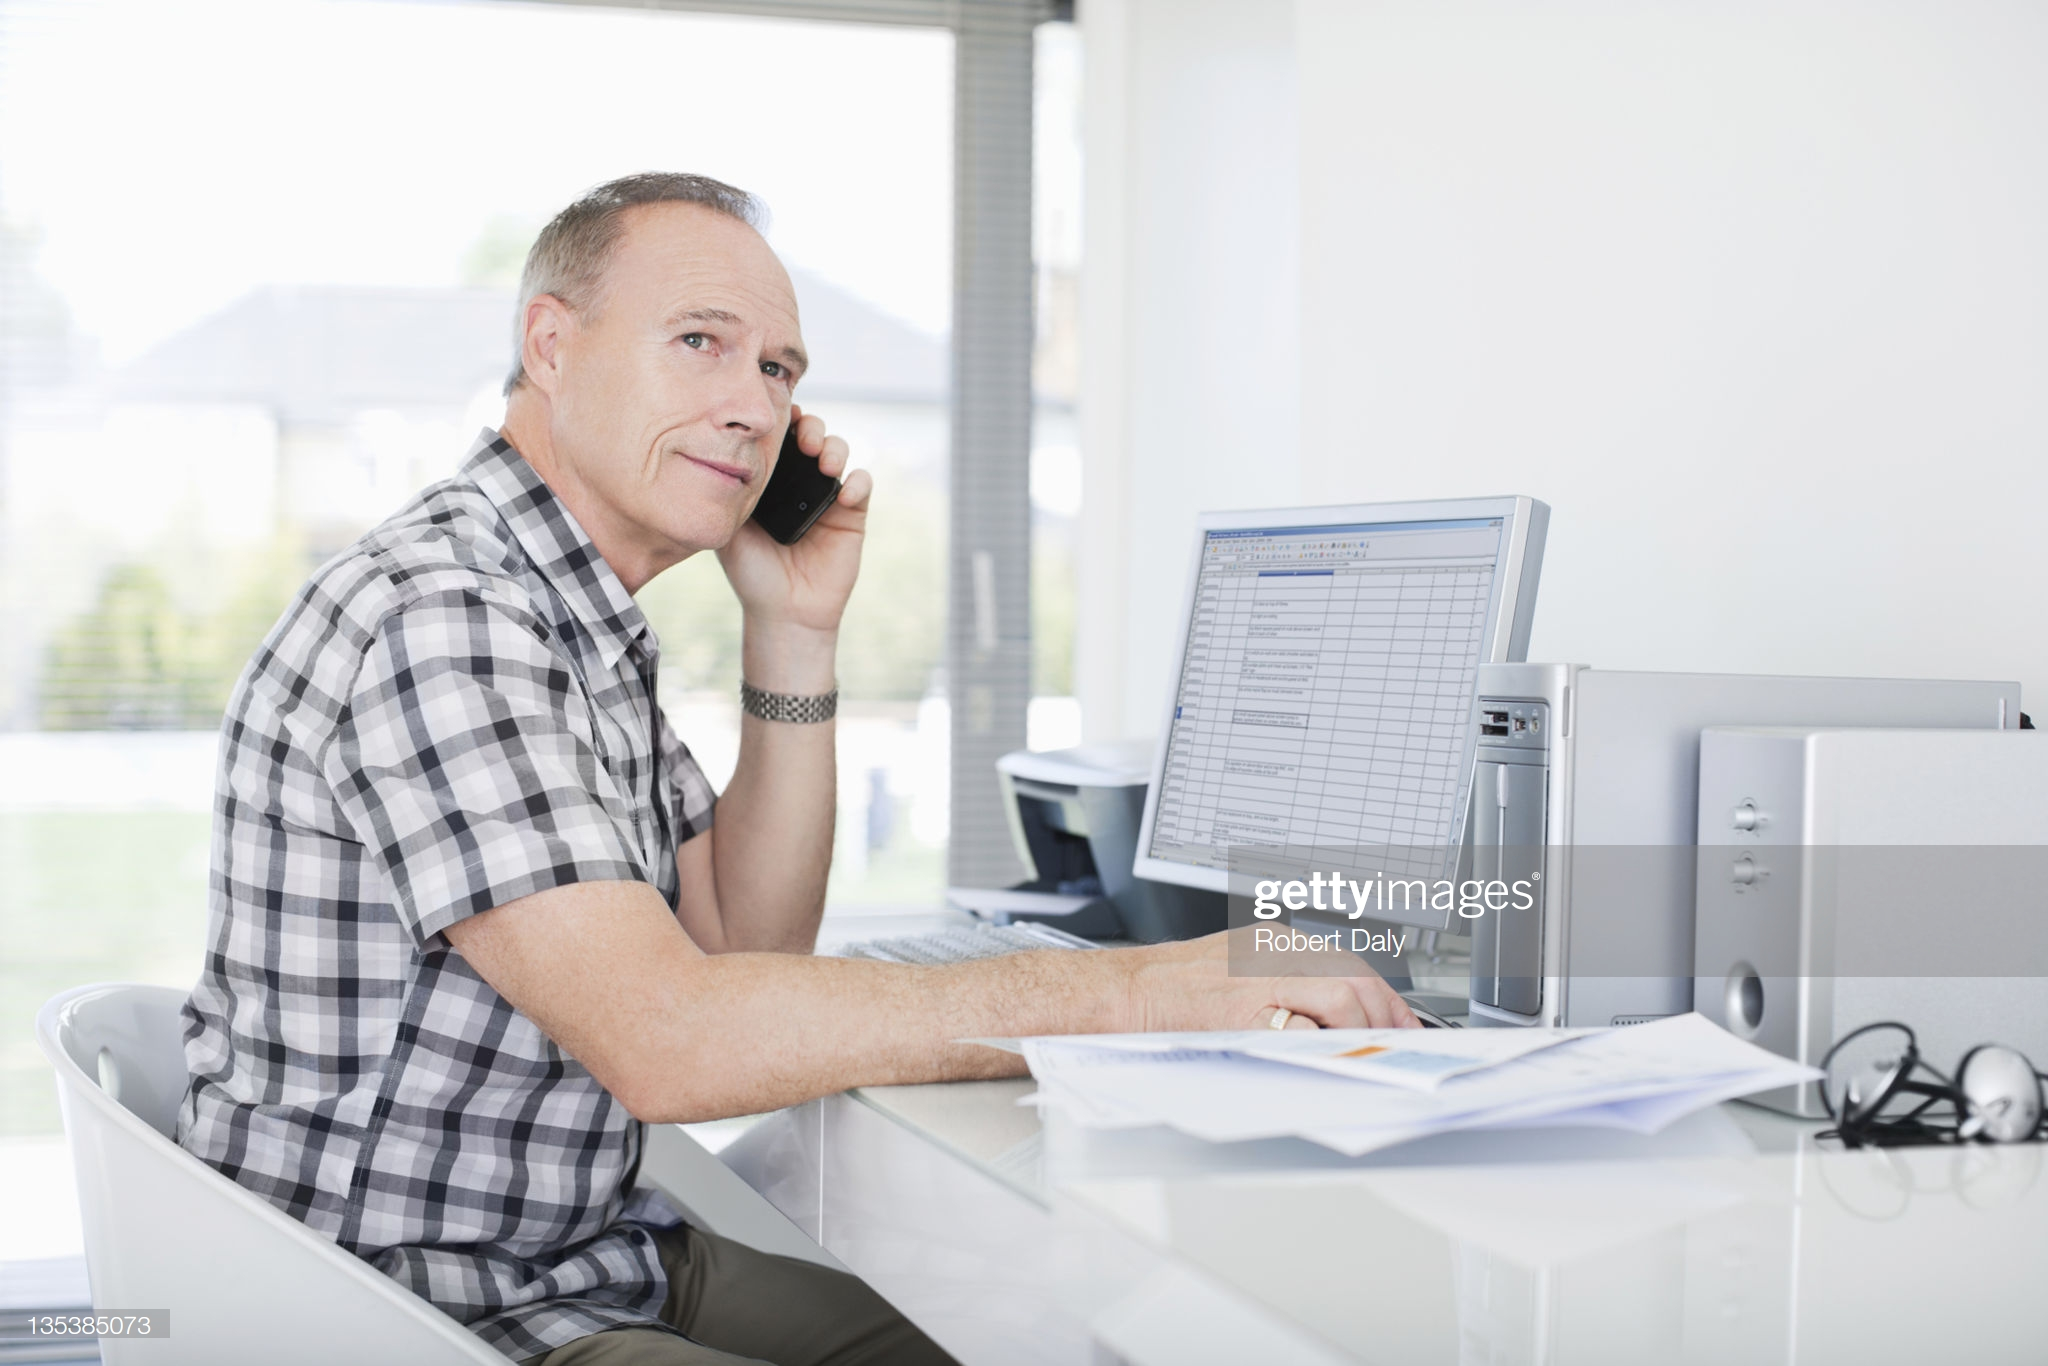phone: (725, 399, 856, 566)
talk: (614, 293, 888, 624)
